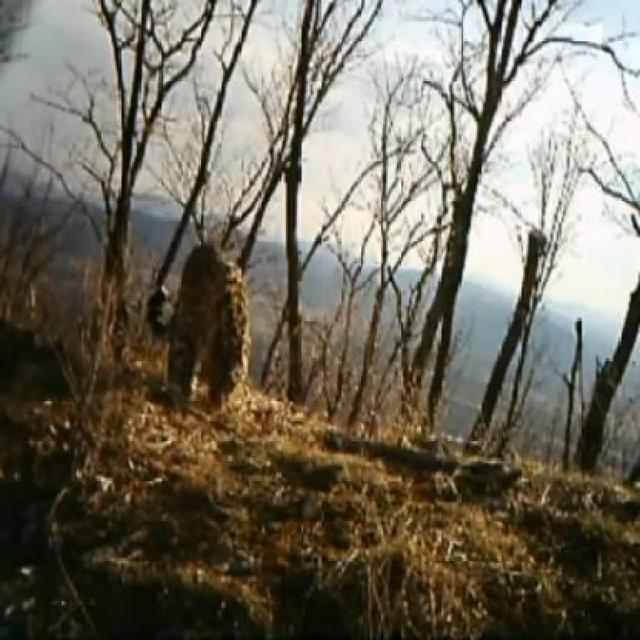Leopard: (134, 182, 266, 404)
